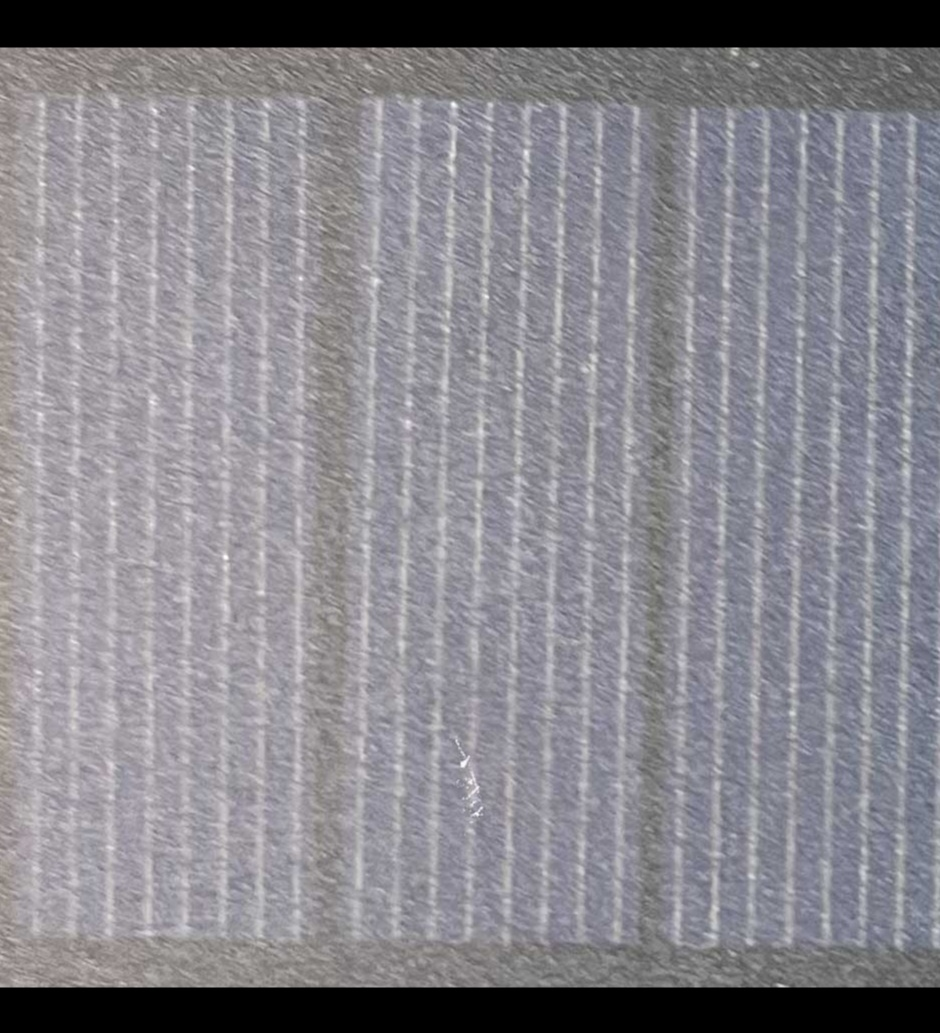Crack: (434, 726, 504, 822)
